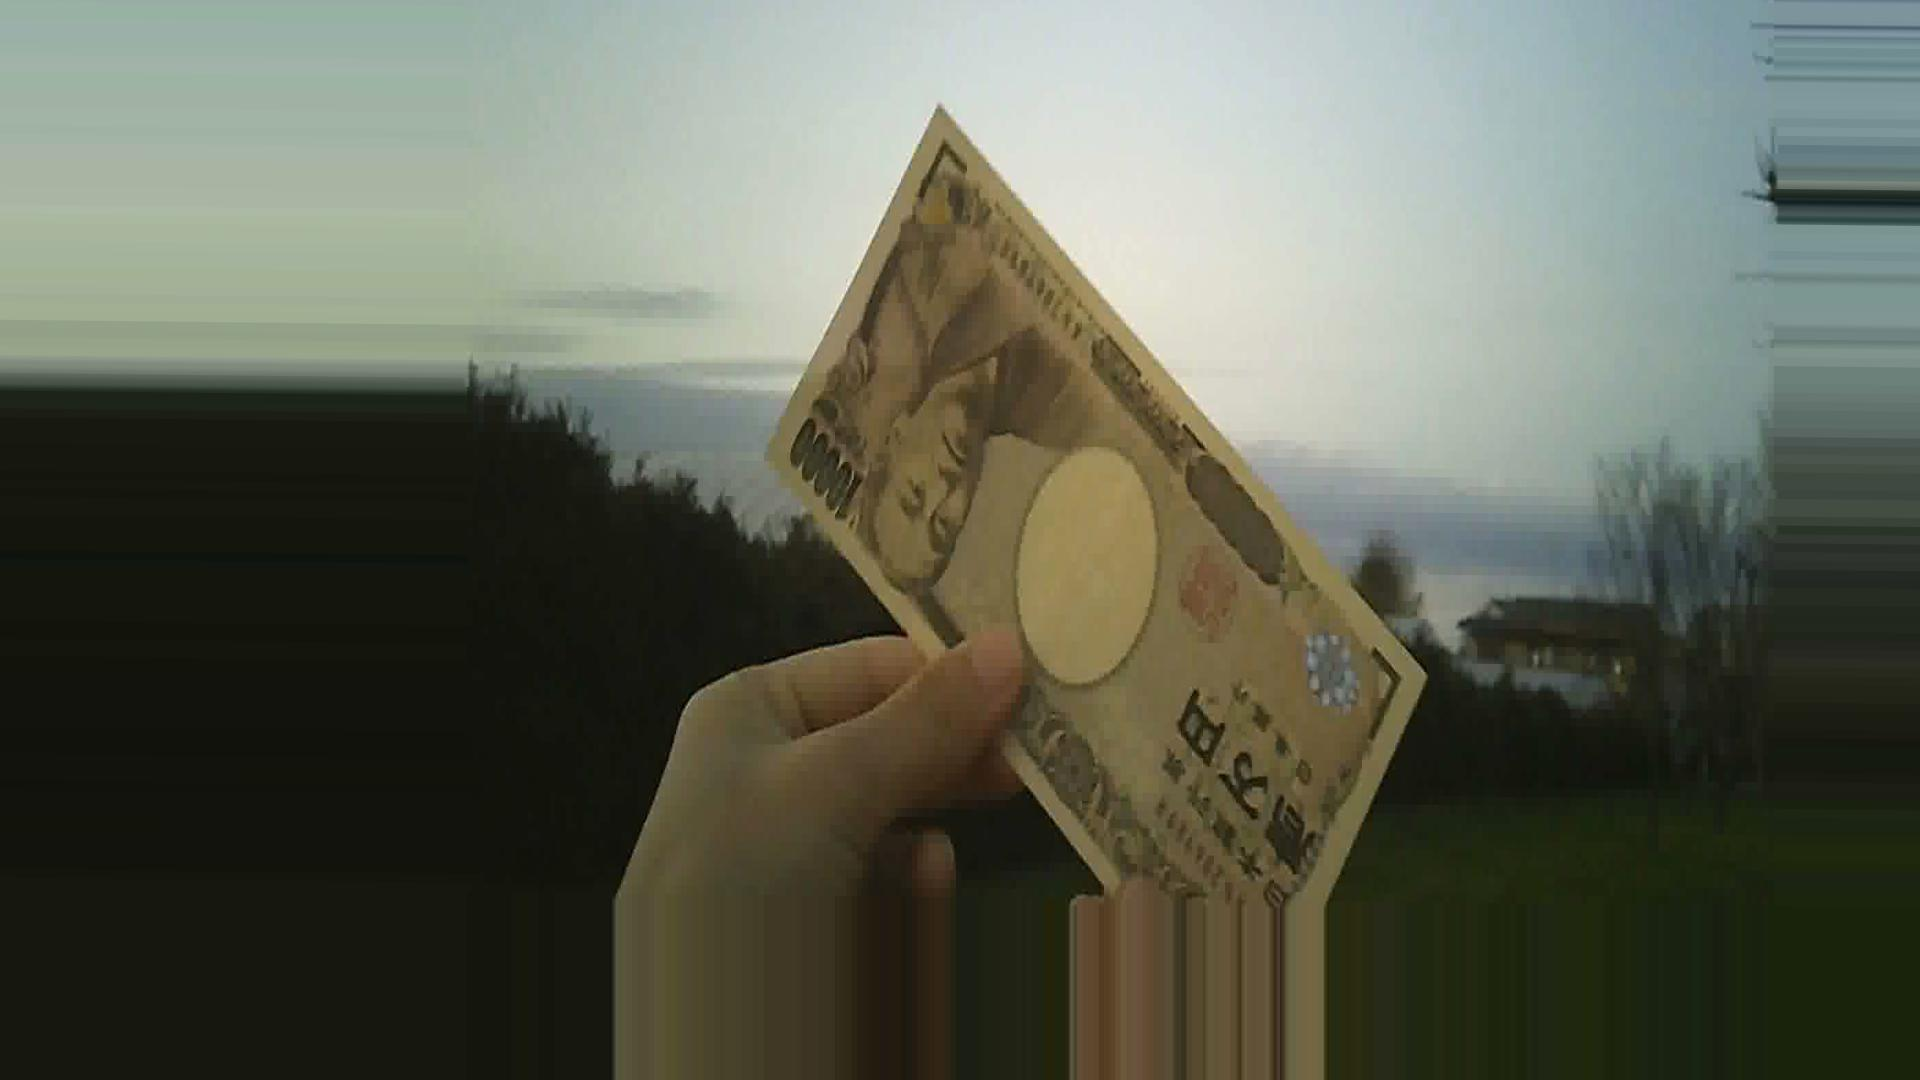10,000 Yen: (673, 66, 1399, 928)
